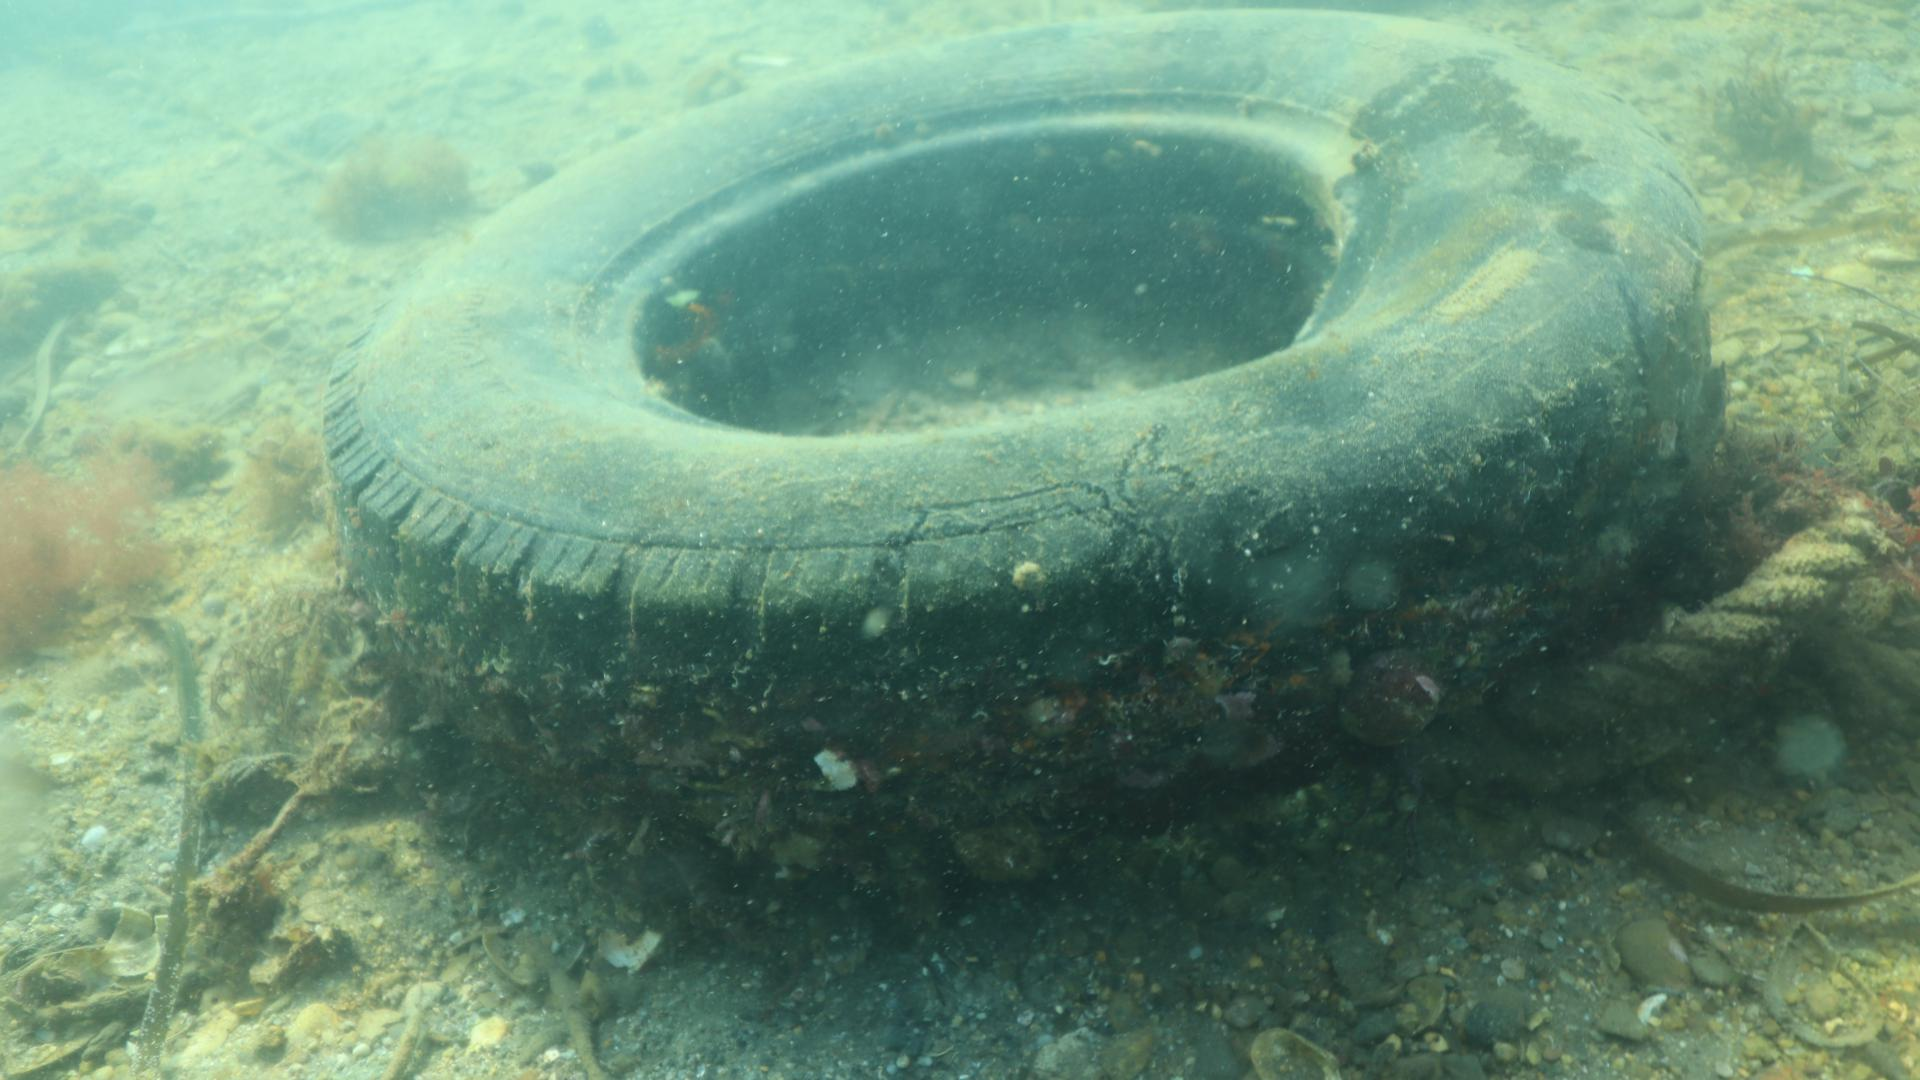rope: (1538, 495, 1898, 725)
tire: (320, 0, 1710, 894)
